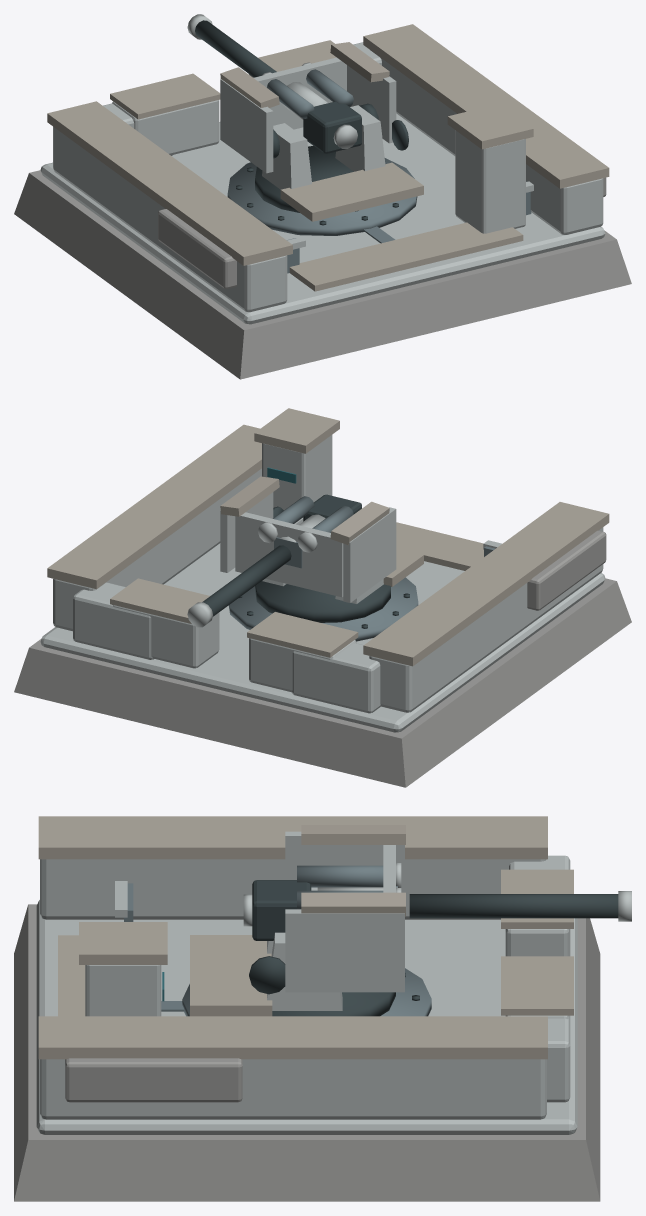
Rendered from ENE_CoastalBattery_Art.fbx.
3 renders of one model, top to bottom at view 1: azimuth 30°, elevation 25°; view 2: azimuth 150°, elevation 25°; view 3: azimuth 270°, elevation 25°, orthographic. The views are drawn at different scales.
Parts seen in each view (by area): view 1: CutStoneFoundation, ConcreteGunPlatform, ParapetCap, ParapetCap.001, LateralParapet, RearWalkway, LateralParapet.001, ObserverShaft, LoadingDeck, CircularHoldfast, GunShieldSide, FrontBlastWall (+15 smaller); view 2: CutStoneFoundation, ConcreteGunPlatform, ParapetCap, ParapetCap.001, LateralParapet, LateralParapet.001, ShieldFront, FrontParapetWing, FrontParapetWing.001, TraversePlatform, GunShieldSide, ObserverShaft (+15 smaller); view 3: CutStoneFoundation, ConcreteGunPlatform, LateralParapet.001, ParapetCap.001, ParapetCap, LateralParapet, GunShieldSide.001, EarthCover.001, LoadingDeck, TaperedGunTube, FrontWallCap.001, ObserverShaft (+16 smaller).
Part boxes in pixels (x1,y1,x2,y2): CutStoneFoundation: (14, 170, 631, 379); ConcreteGunPlatform: (40, 113, 605, 324); ParapetCap: (47, 101, 292, 265); ParapetCap.001: (363, 24, 609, 188); LateralParapet: (53, 126, 287, 312); RearWalkway: (289, 222, 523, 291); LateralParapet.001: (370, 50, 603, 234); ObserverShaft: (455, 130, 525, 233); LoadingDeck: (280, 162, 423, 221); CircularHoldfast: (227, 158, 417, 235); GunShieldSide: (220, 79, 273, 173); FrontBlastWall: (112, 100, 219, 155); CutStoneFoundation: (14, 578, 631, 787); ConcreteGunPlatform: (40, 543, 605, 732); ParapetCap: (363, 502, 609, 666); ParapetCap.001: (47, 424, 261, 589); LateralParapet: (369, 527, 603, 712); LateralParapet.001: (53, 468, 261, 631); ShieldFront: (235, 512, 343, 597); FrontParapetWing: (292, 643, 380, 713); FrontParapetWing.001: (73, 582, 154, 659); TraversePlatform: (255, 581, 390, 622); GunShieldSide: (343, 507, 396, 602); ObserverShaft: (262, 435, 332, 510); CutStoneFoundation: (14, 904, 600, 1201); ConcreteGunPlatform: (36, 900, 577, 1134); LateralParapet.001: (40, 1059, 546, 1119); ParapetCap.001: (38, 1016, 547, 1059); ParapetCap: (38, 816, 547, 859); LateralParapet: (40, 859, 546, 919); GunShieldSide.001: (285, 909, 404, 992); EarthCover.001: (65, 1058, 242, 1102); LoadingDeck: (190, 935, 272, 1016); TaperedGunTube: (409, 894, 618, 918); FrontWallCap.001: (501, 956, 573, 1015); ObserverShaft: (85, 965, 161, 1016).
Size of the model in its own units: 555 by 224 by 585.
